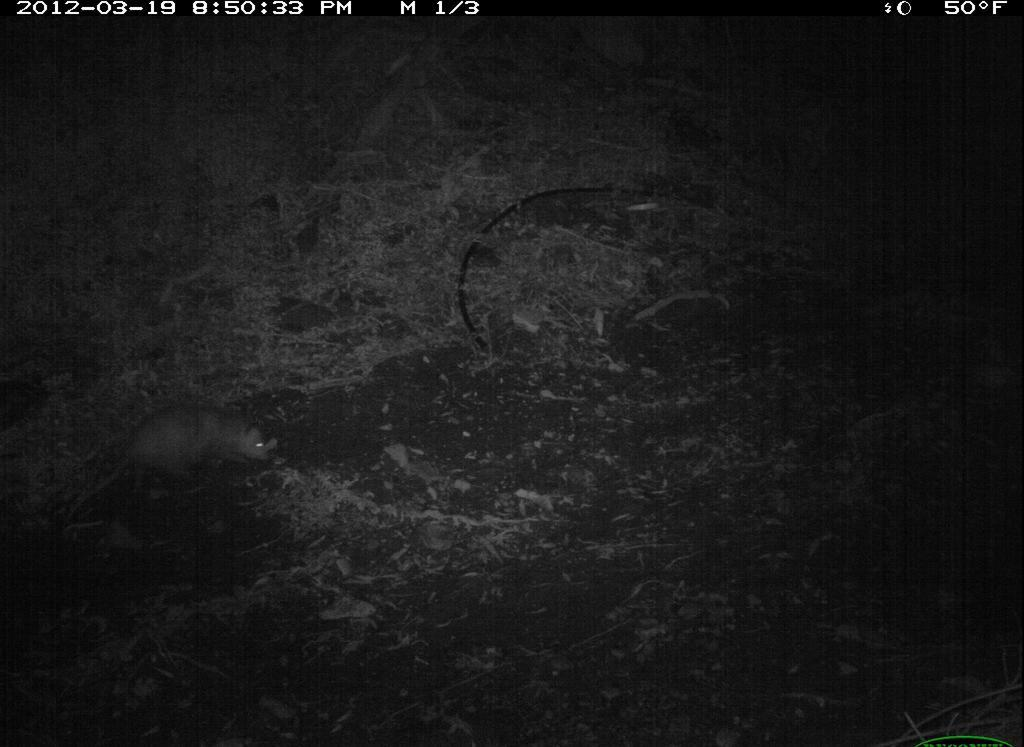opossum: (97, 391, 291, 495)
